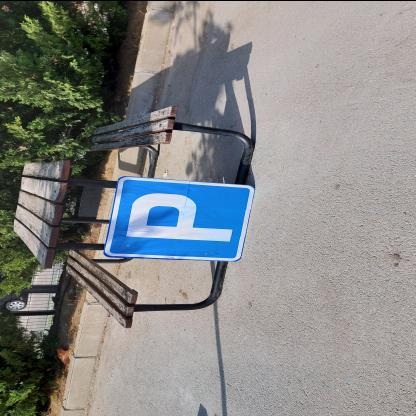Parking-Sign: (105, 176, 257, 262)
